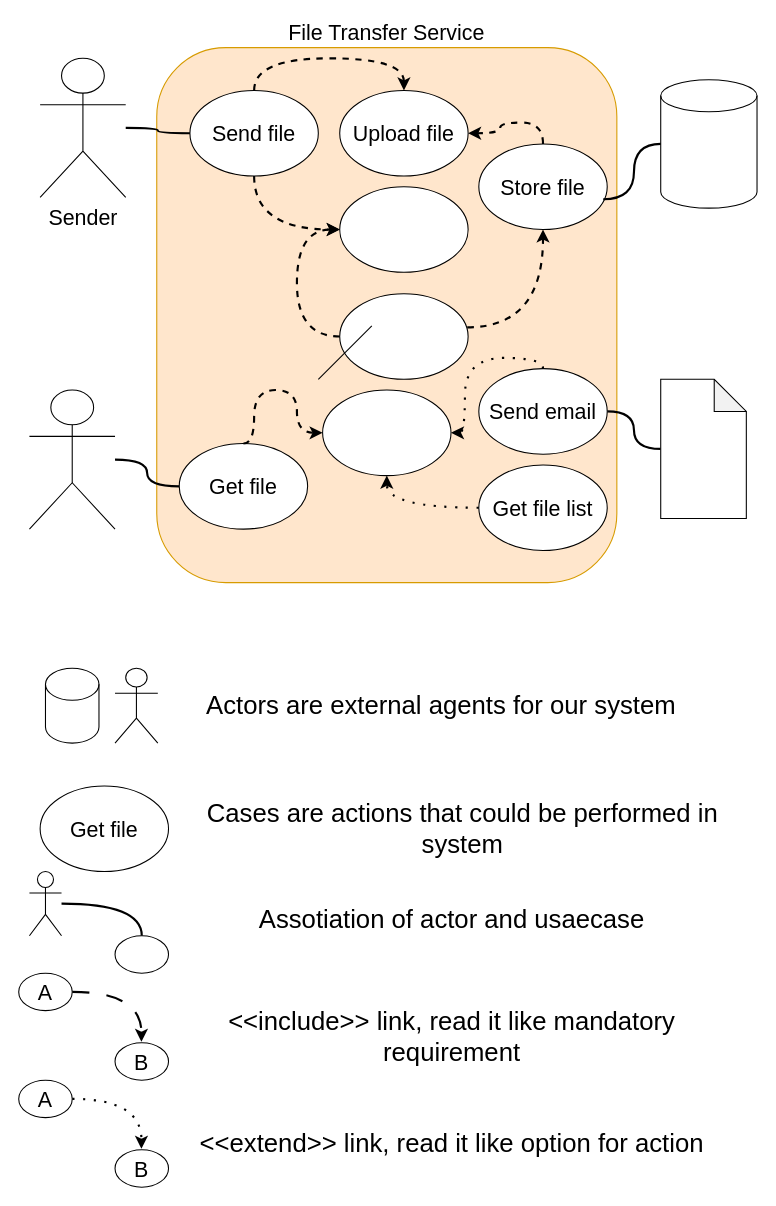
Image size: 776x1206. Some labels were removed from this diagram. The centre of each missing label's shape, as x and y in pixels:
Email Service: point 703,448
File Storage: point 708,143
Get available: point 386,432
Recepient: point 71,459
Save file recepient: point 403,336
Specify recepient: point 403,229
